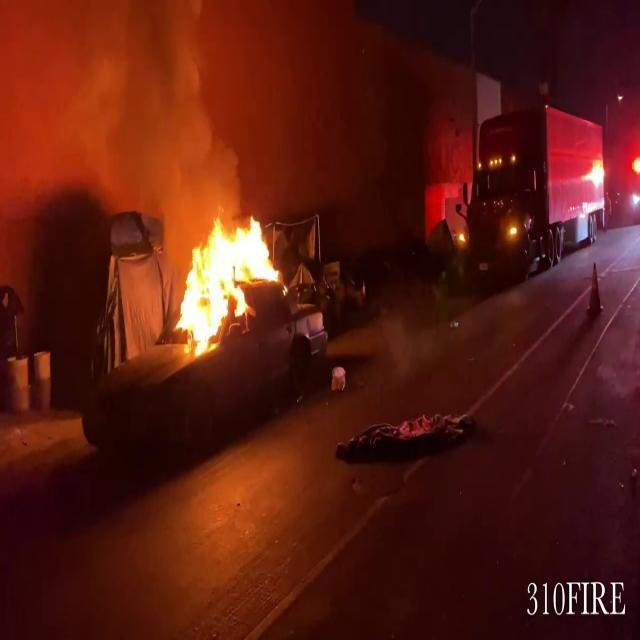Fire: (170, 208, 290, 355)
Smoke: (79, 0, 258, 201)
